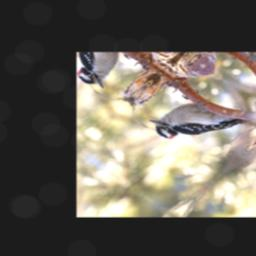Woodpecker: (144, 79, 251, 164)
